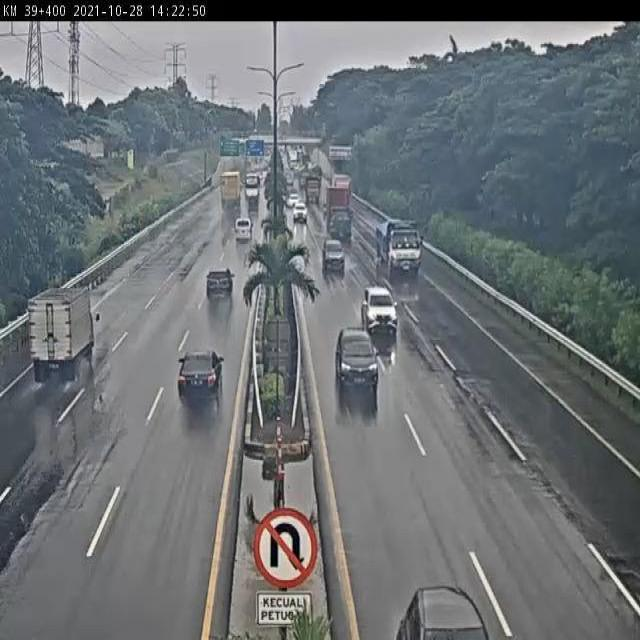car: (333, 325, 383, 400), (178, 350, 224, 406)
truck-l-: (374, 217, 424, 275)
truck-m-: (27, 290, 95, 382)
truck-xl-: (327, 188, 356, 243)
